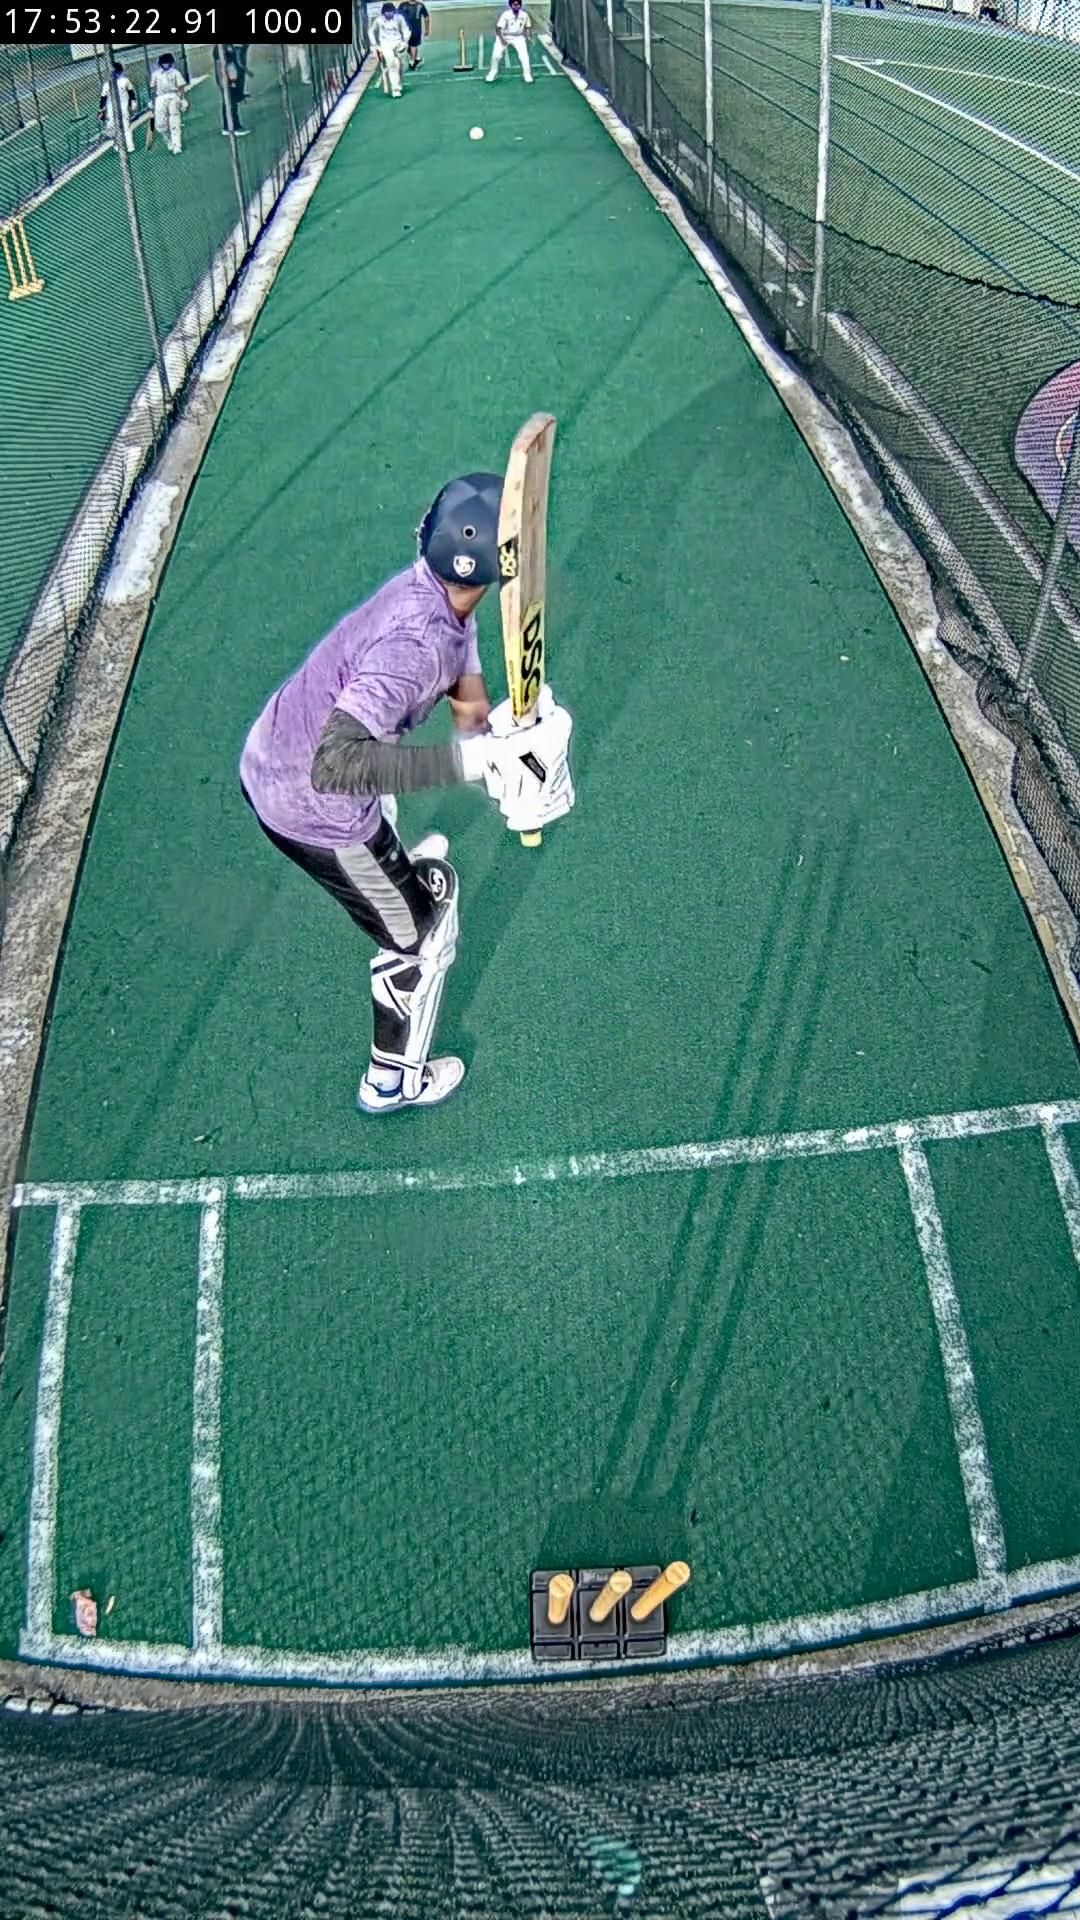ball: (468, 128, 484, 138)
bat: (498, 413, 555, 719)
gloves: (462, 686, 574, 832)
helmet: (419, 472, 502, 585)
pads: (405, 858, 458, 1063)
stumps: (529, 1560, 690, 1665)
